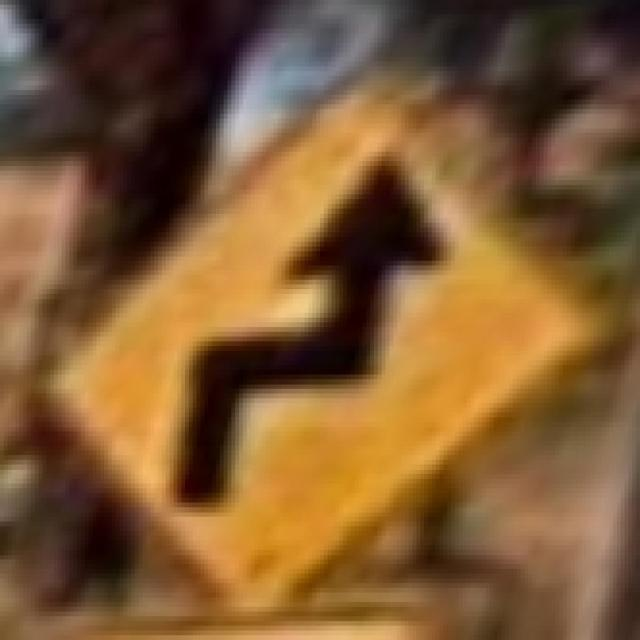Tikungan Ganda Pertama Ke Kanan: (50, 66, 586, 612)
